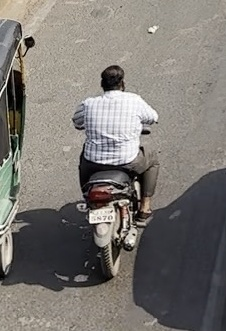BikeWithRider: (66, 60, 165, 282)
NoHelmet: (94, 61, 131, 96)
